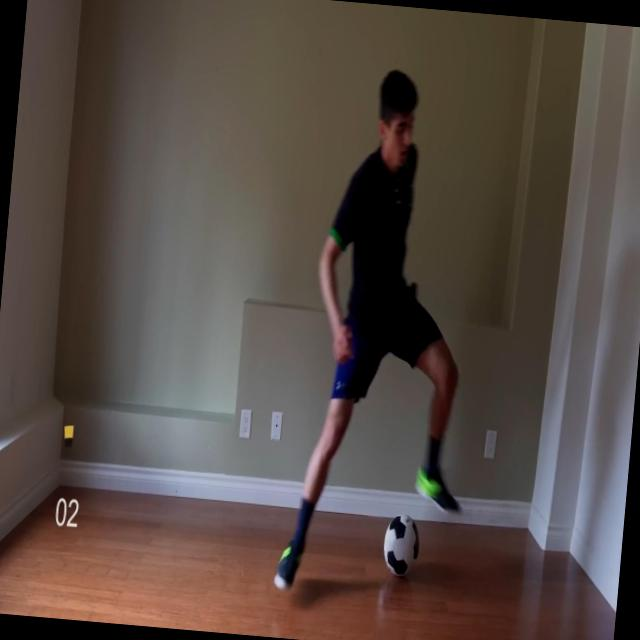Soccer Ball: (381, 512, 422, 579)
